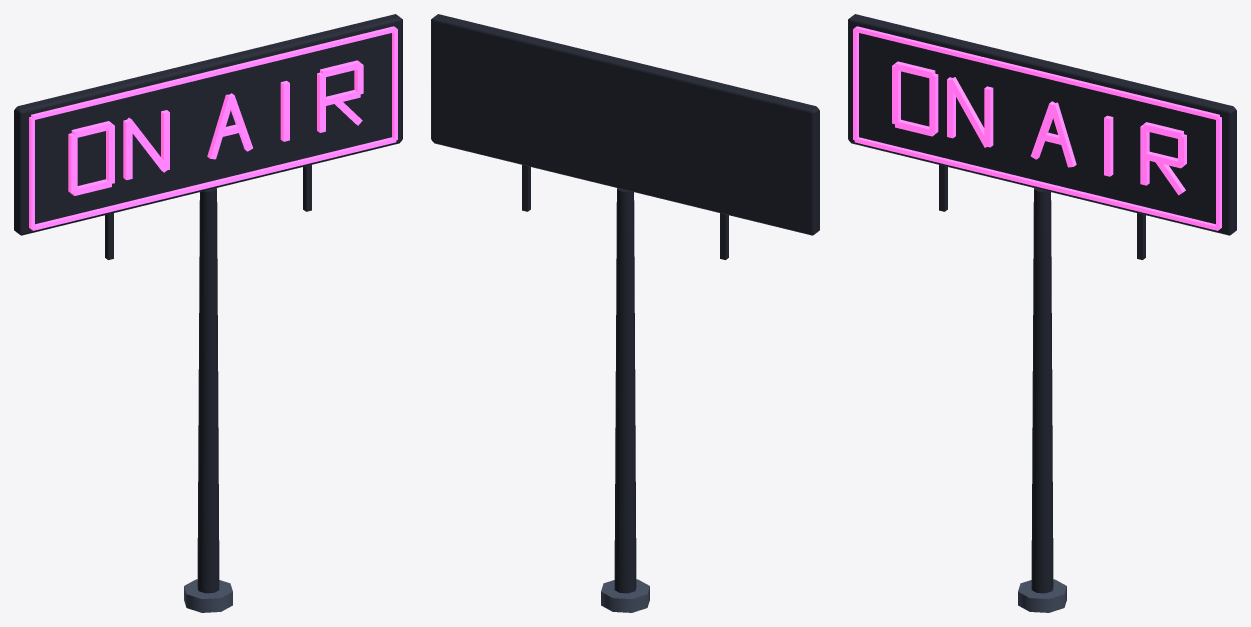
File: welt_neonschild.glb
3 views of the same model, side by side, from view 1: azimuth 30°, elevation 25°; view 2: azimuth 150°, elevation 25°; view 3: azimuth 330°, elevation 25° (orthographic).
Parts seen in each view (by area): view 1: welt_neonschild; view 2: welt_neonschild; view 3: welt_neonschild.
Part boxes in pixels (x1,y1,x2,y2): welt_neonschild: [14, 14, 402, 612]; welt_neonschild: [431, 14, 819, 612]; welt_neonschild: [848, 14, 1236, 612].
Size of the model in its own units: 3.5 by 4.7 by 0.4.
